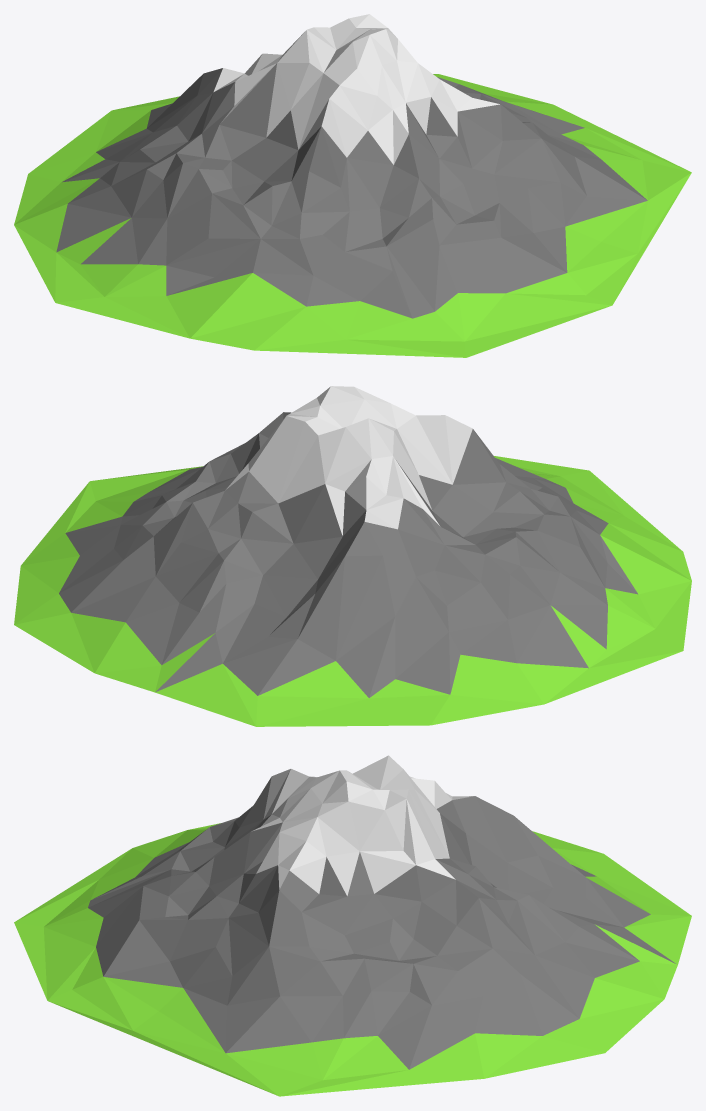
File: Mountain_1.fbx
3 renders of one model, top to bottom at view 1: azimuth 30°, elevation 25°; view 2: azimuth 150°, elevation 25°; view 3: azimuth 270°, elevation 25°, orthographic. The views are drawn at different scales.
Parts seen in each view (by area): view 1: Landscape; view 2: Landscape; view 3: Landscape.
Part boxes in pixels (bbox=[...]): Landscape: bbox=[14, 14, 691, 357]; Landscape: bbox=[14, 386, 691, 726]; Landscape: bbox=[14, 755, 691, 1096].
Size of the model in its own units: 200 by 58.33 by 194.
